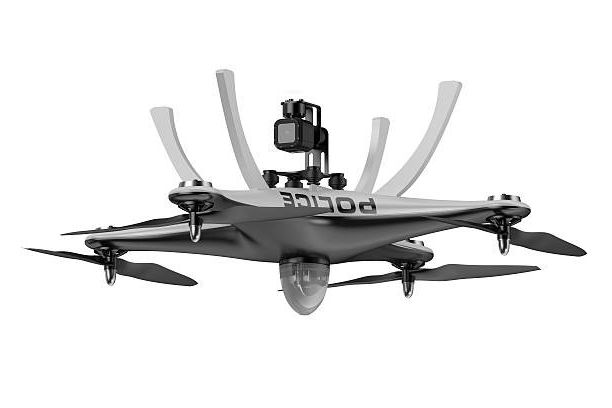Drone: (23, 62, 587, 318)
